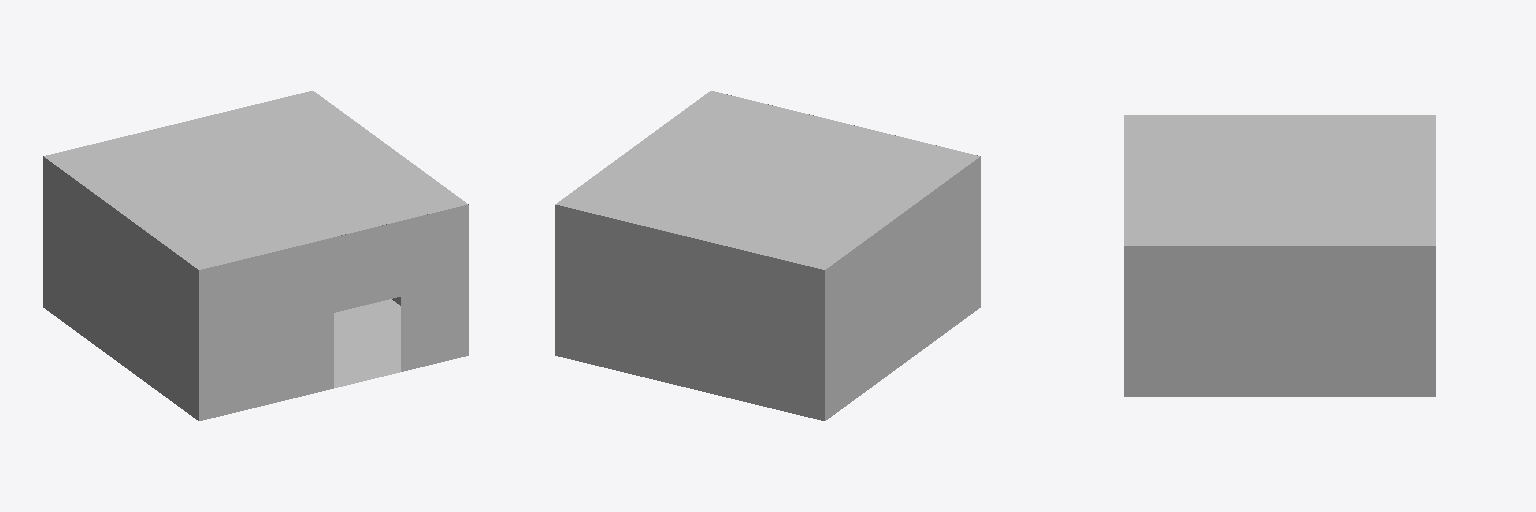
Rendered from room.obj.
3 views of the same model, side by side, from view 1: azimuth 30°, elevation 25°; view 2: azimuth 150°, elevation 25°; view 3: azimuth 270°, elevation 25° (orthographic).
Visible parts, largest first — view 1: Plane; view 2: Plane; view 3: Plane.
Part boxes in pixels (left/top/right/bottom): Plane: left=43, top=91, right=468, bottom=420; Plane: left=555, top=91, right=980, bottom=420; Plane: left=1124, top=115, right=1435, bottom=396.
Size of the model in its own units: 8.22 by 4.41 by 8.22.